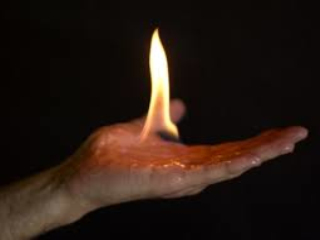fire: (128, 29, 190, 147)
